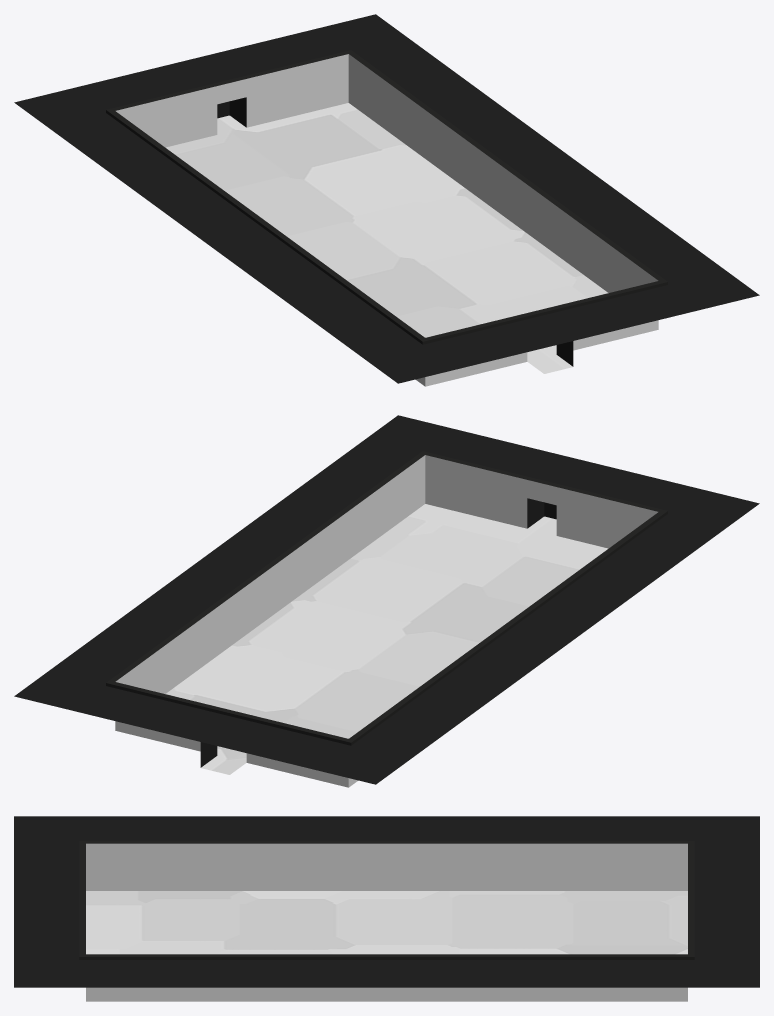
Rendered from Room 2x1x2.fbx.
3 renders of one model, top to bottom at view 1: azimuth 30°, elevation 25°; view 2: azimuth 150°, elevation 25°; view 3: azimuth 270°, elevation 25°, orthographic. The views are drawn at different scales.
Visible parts, largest first — view 1: Room_2x1x2; view 2: Room_2x1x2; view 3: Room_2x1x2.
Boxes of the visible parts, left/top/right/bottom form: Room_2x1x2: left=14, top=14, right=759, bottom=386; Room_2x1x2: left=14, top=415, right=759, bottom=787; Room_2x1x2: left=14, top=816, right=759, bottom=1001.
Size of the model in its own units: 62 by 114 by 8.
